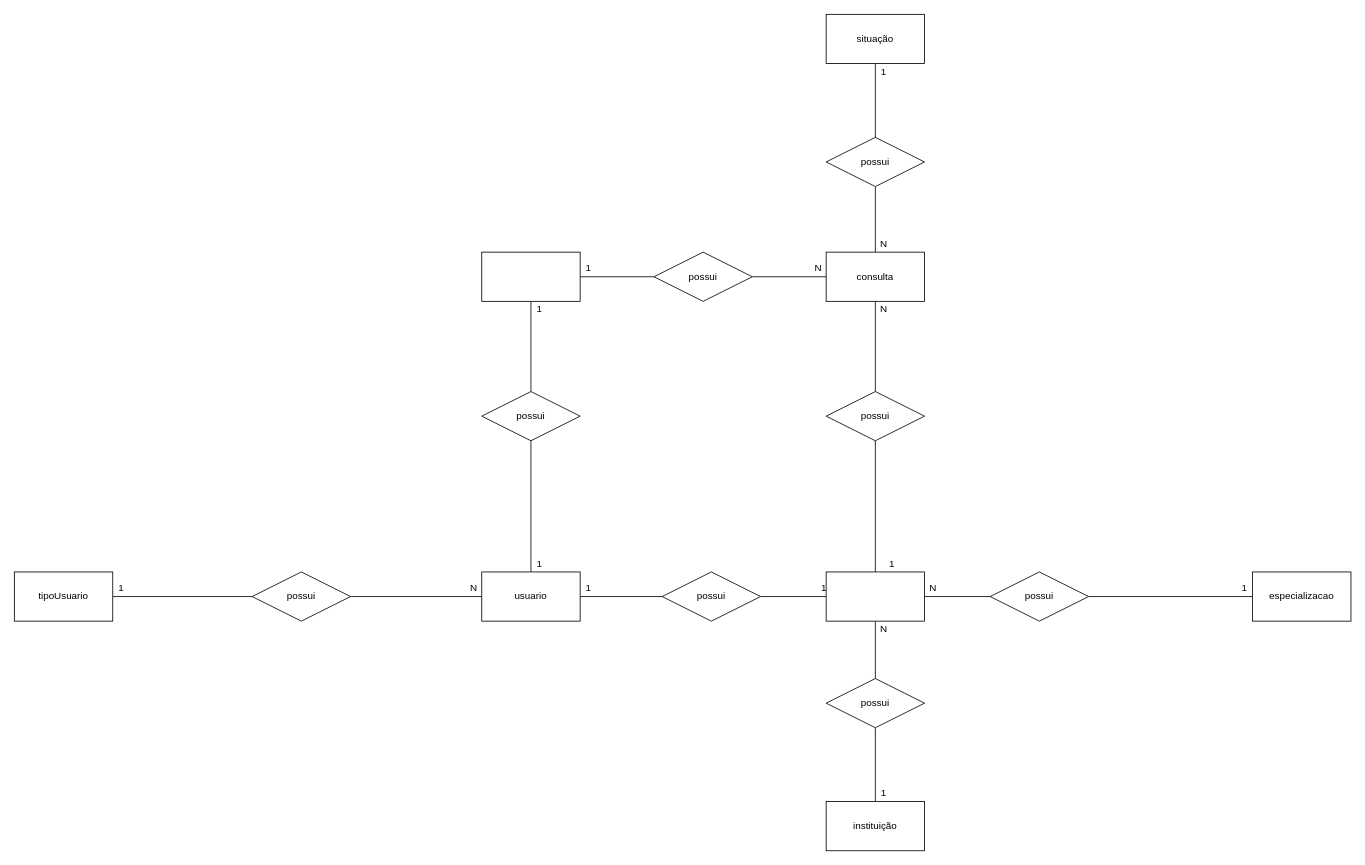
Image size: 1365x865. Some labels were removed from this diagram. Each missing label, with the box of its shape:
medico: (825, 571, 925, 621)
paciente: (481, 251, 580, 301)
